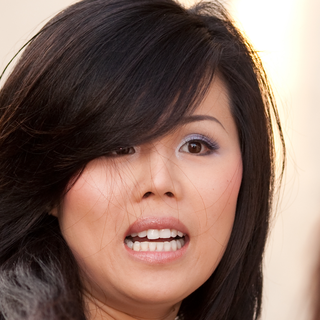eye: (173, 132, 219, 160)
